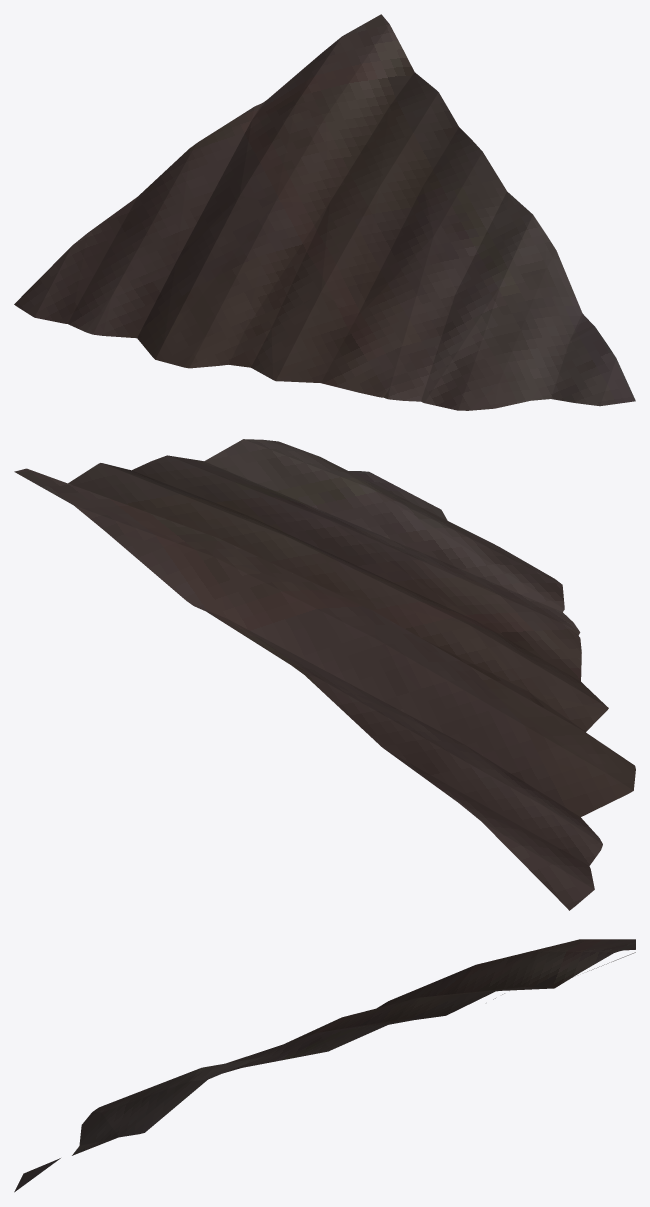
3 renders of one model, top to bottom at view 1: azimuth 30°, elevation 25°; view 2: azimuth 150°, elevation 25°; view 3: azimuth 270°, elevation 25°, orthographic. The views are drawn at different scales.
Size of the model in its own units: 22.34 by 11.66 by 26.81.
Materials: 1 (1 with a texture image).
